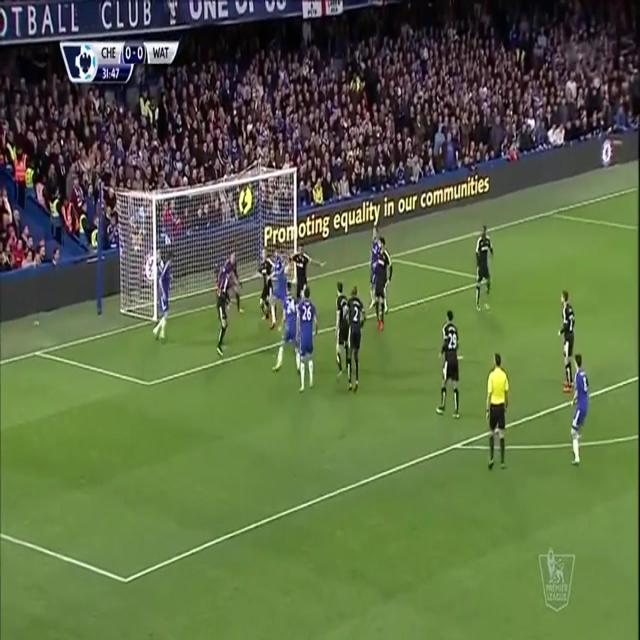Goalkeeper: (226, 248, 245, 314)
Player: (434, 307, 462, 420), (569, 352, 591, 471), (346, 283, 368, 397), (150, 251, 176, 344), (297, 288, 320, 392), (274, 282, 298, 378), (557, 287, 577, 395), (289, 236, 326, 293), (374, 238, 395, 332), (474, 225, 495, 313), (268, 248, 288, 332), (214, 267, 232, 359), (332, 281, 348, 382), (257, 247, 273, 319), (368, 225, 378, 315)
Referee: (487, 348, 511, 470)
